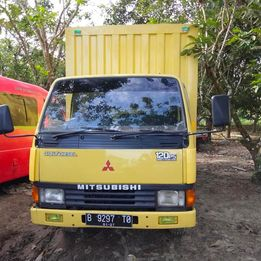plate: (85, 213, 134, 228)
